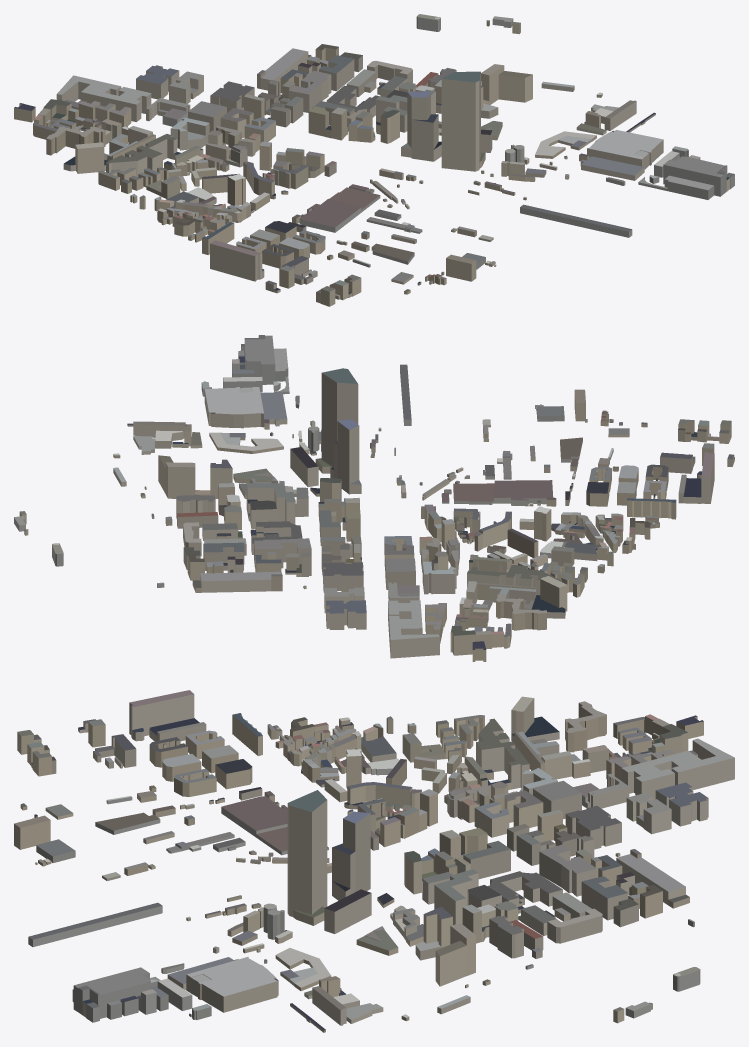
3 views of the same model, one above another, from view 1: azimuth 30°, elevation 25°; view 2: azimuth 150°, elevation 25°; view 3: azimuth 270°, elevation 25° (orthographic). The views are drawn at different scales.
Parts seen in each view (by area): view 1: tuile; view 2: tuile; view 3: tuile.
Part boxes in pixels (box(x1,y1,x2,y2)): tuile: box(14, 14, 734, 306); tuile: box(14, 335, 734, 661); tuile: box(14, 690, 734, 1032).
Size of the model in its own units: 1078 by 189 by 1080.
